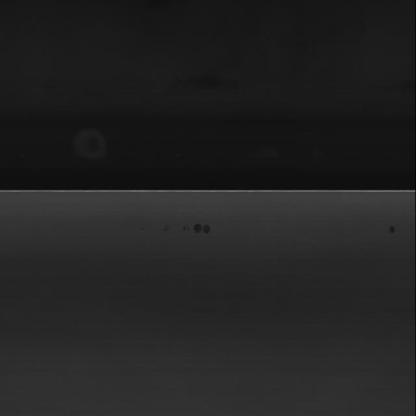oil_spot: (176, 217, 224, 235), (374, 221, 405, 239)
